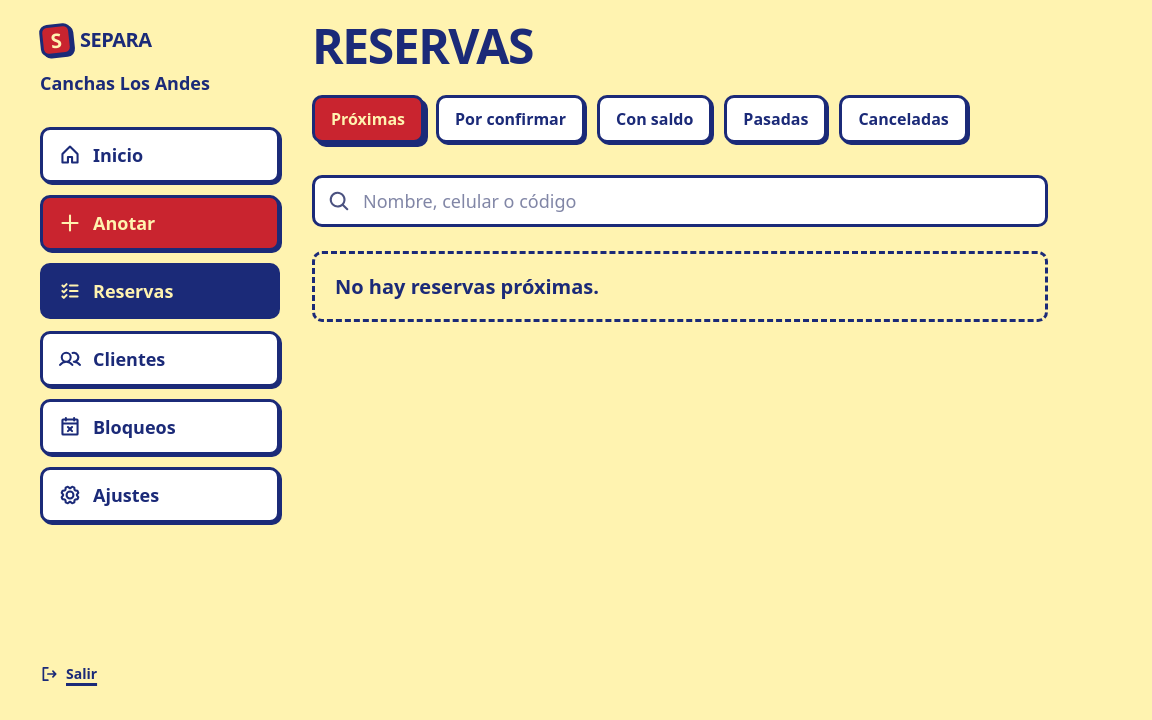
Test: the bookings page › switches the filters with the tabs
Check: the text "No hay reservas próximas." is shown, box 312,251 -> 1048,322
Click the tab "Por confirmar".
click(510, 119)  # box 436,95 -> 585,143
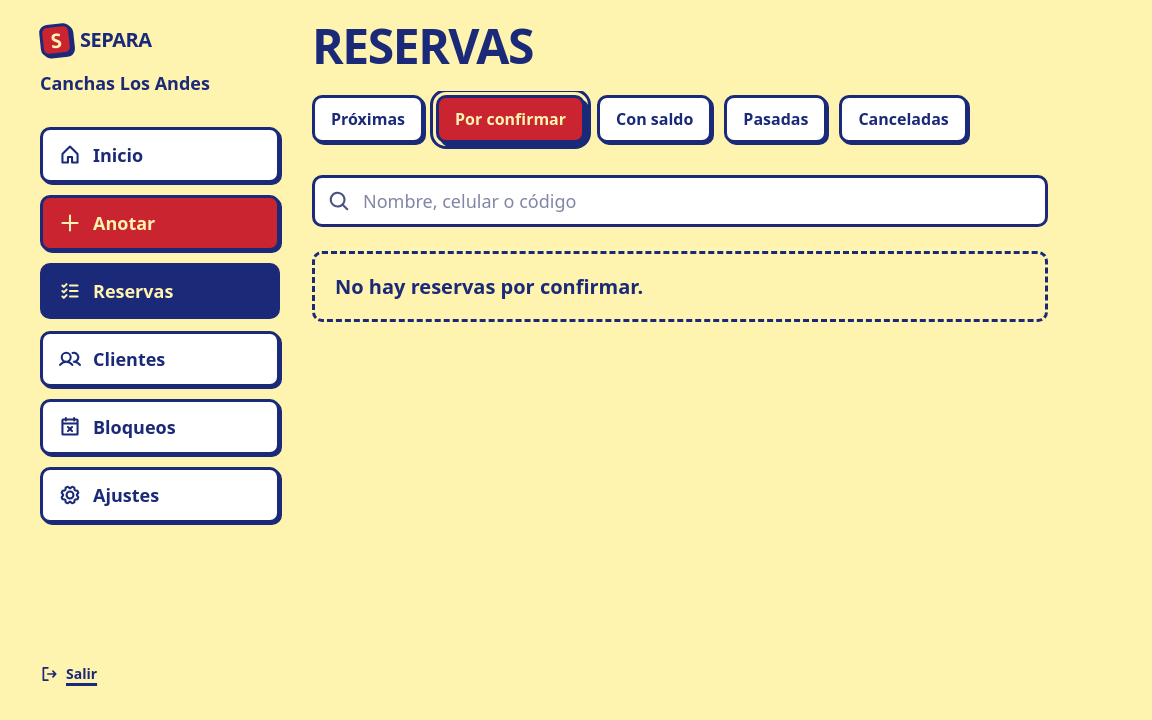
Check: the text "No hay reservas por confirmar." is shown, box 312,251 -> 1048,322
Click the tab "Pasadas".
click(776, 119)  # box 724,95 -> 827,143
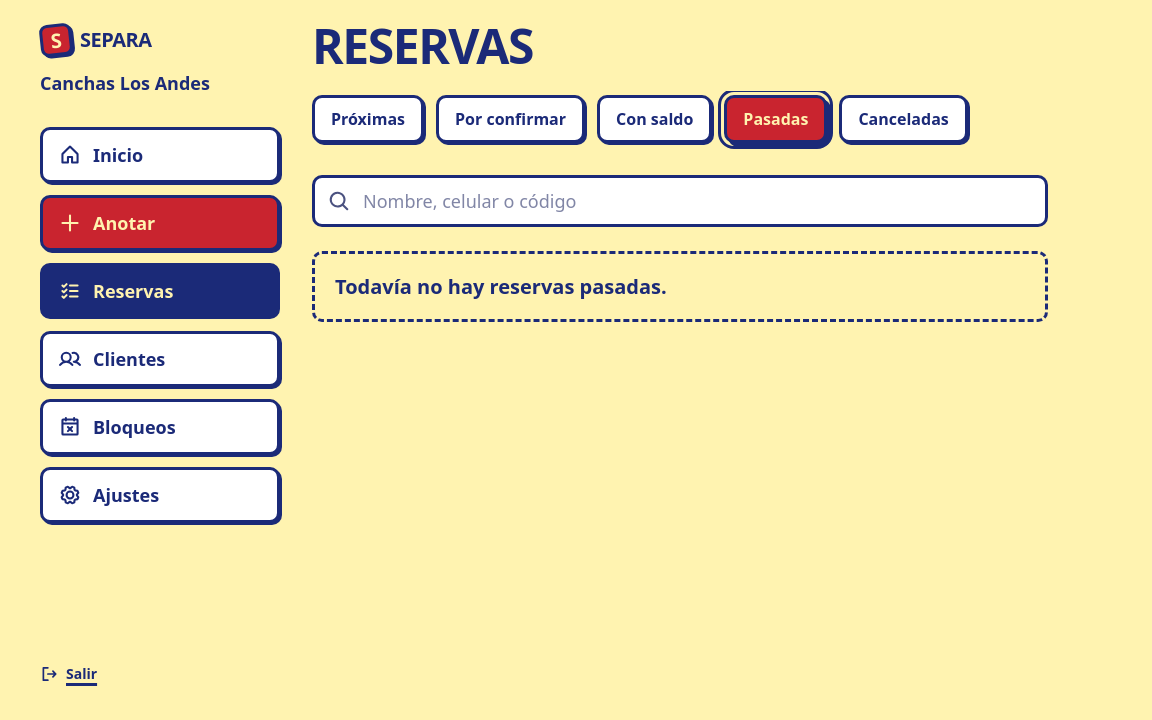
Check: the text "Todavía no hay reservas pasadas." is shown, box 312,251 -> 1048,322
Click the tab "Canceladas".
click(904, 119)  # box 839,95 -> 968,143
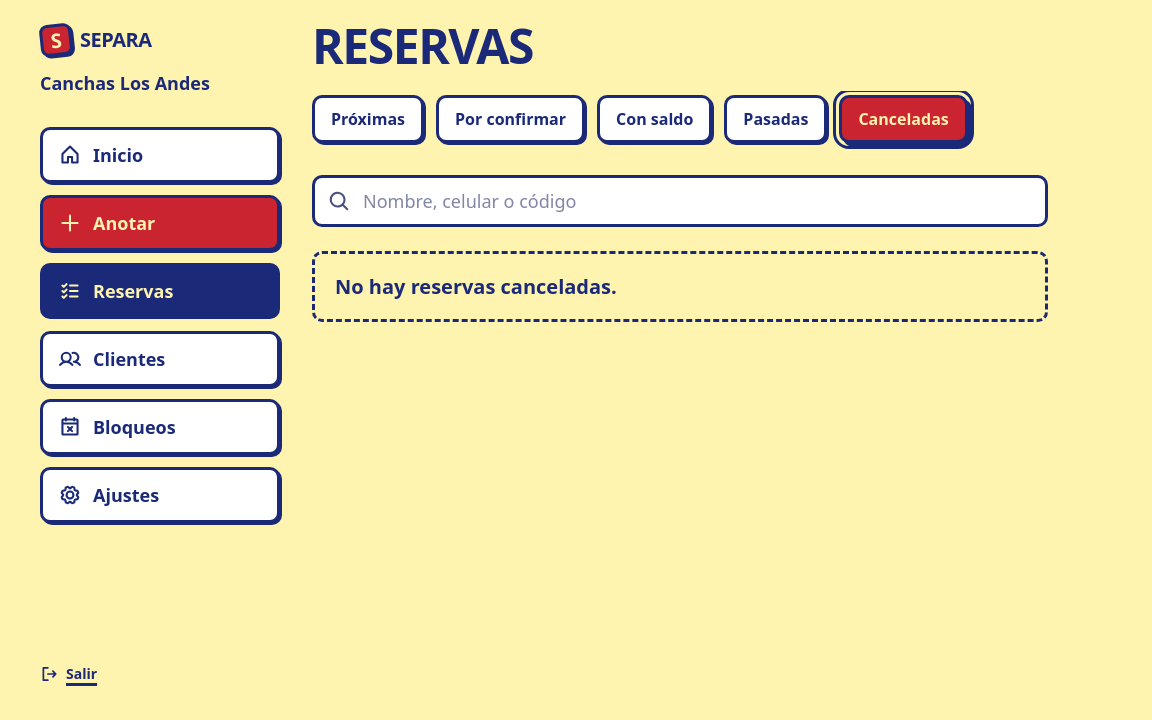
Check: the text "No hay reservas canceladas." is shown, box 312,251 -> 1048,322
